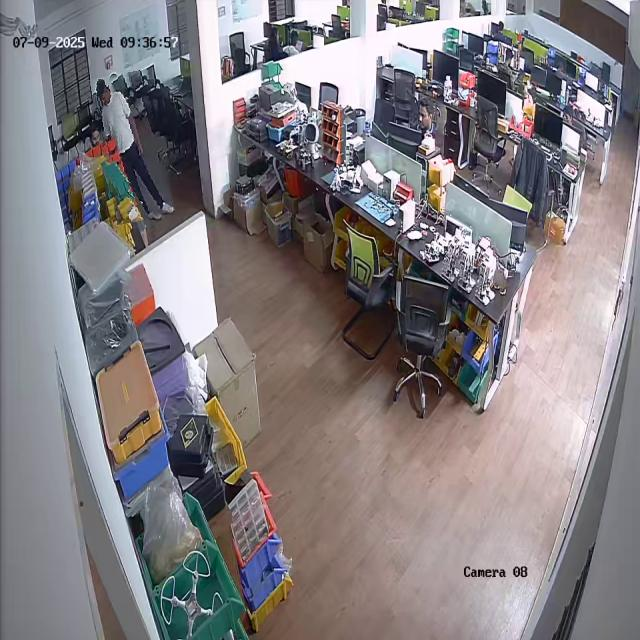person: (96, 71, 169, 223)
